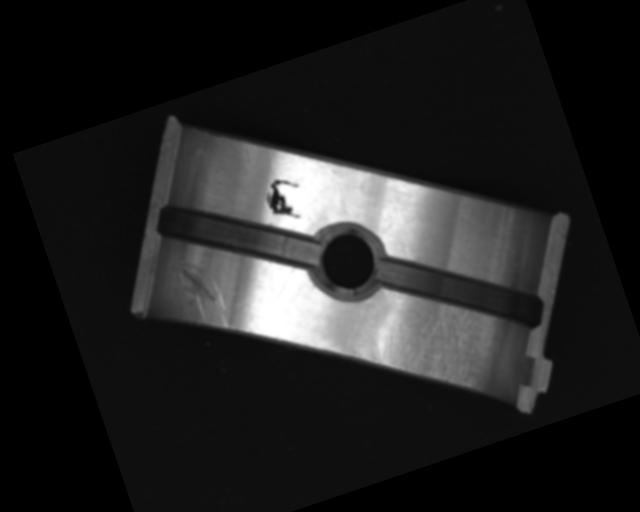blot: (259, 172, 311, 232)
gap: (371, 215, 549, 370), (151, 164, 325, 309)
hole: (298, 212, 396, 311)
nick: (169, 250, 233, 342)
scratch: (347, 288, 519, 426)
